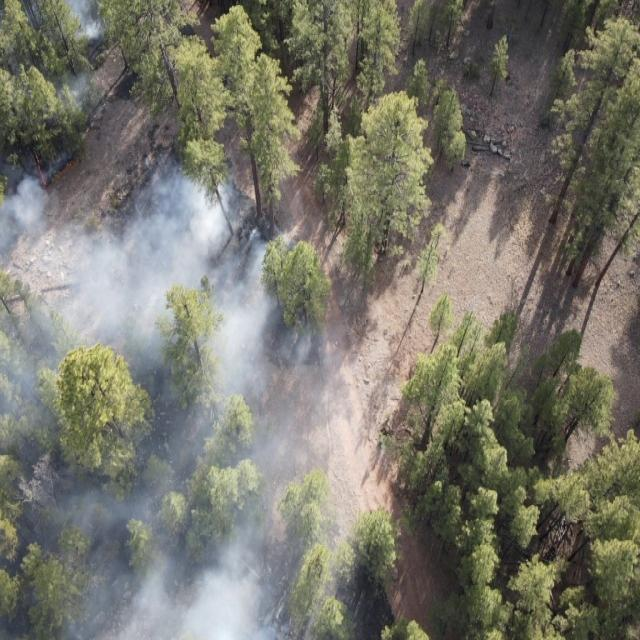fire: (30, 147, 51, 189), (54, 157, 80, 178)
smoke: (28, 385, 334, 640), (55, 156, 306, 386), (17, 0, 111, 121), (0, 275, 56, 417), (0, 166, 56, 272)
